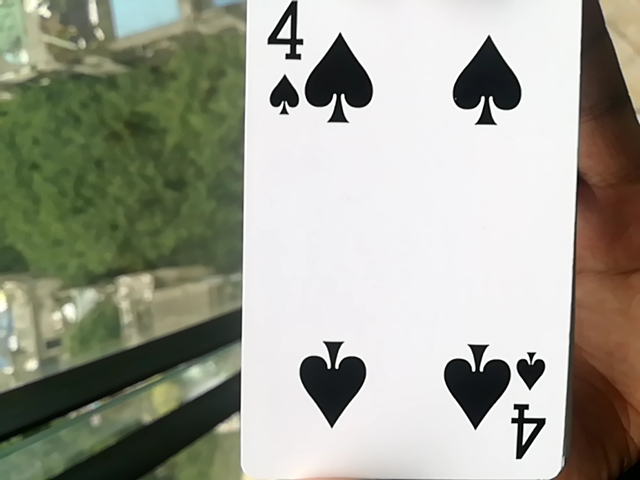ht 4: (232, 10, 590, 479)
